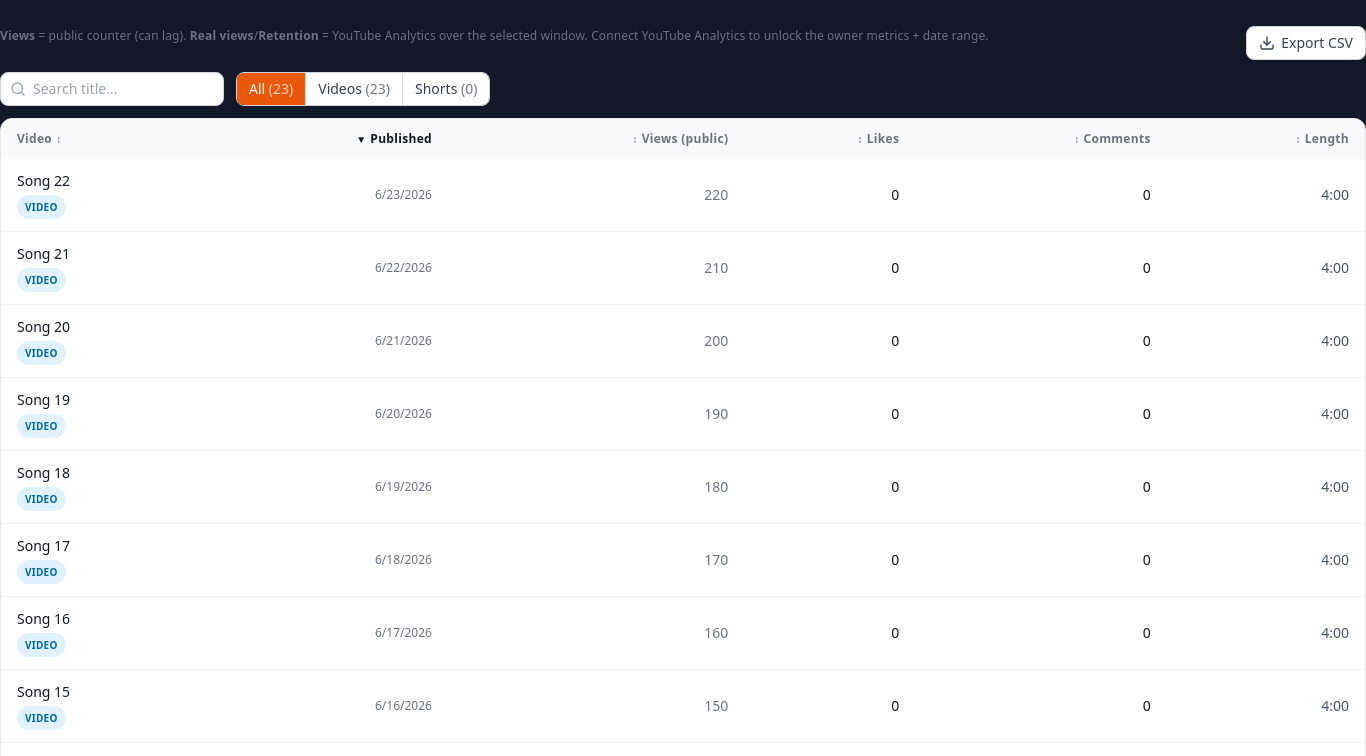
Test: YouTubeVideosPanel › filters by search query
Type "Song 2" into the search field with placeholder "Search title…".
click(112, 89); type("Song 2")  # box top-left (0, 72), bottom-right (224, 106)
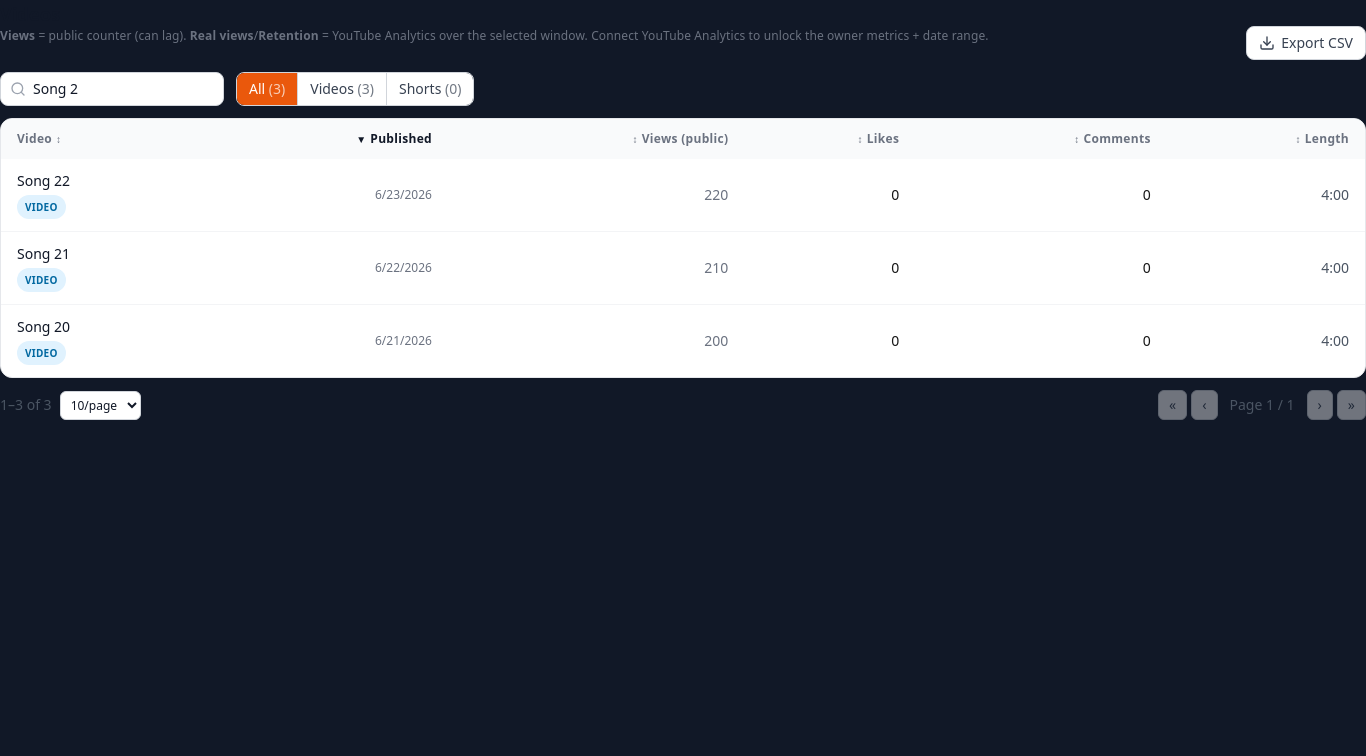
Check: the text "1–3 of 3" is shown, box top-left (0, 395), bottom-right (52, 415)
